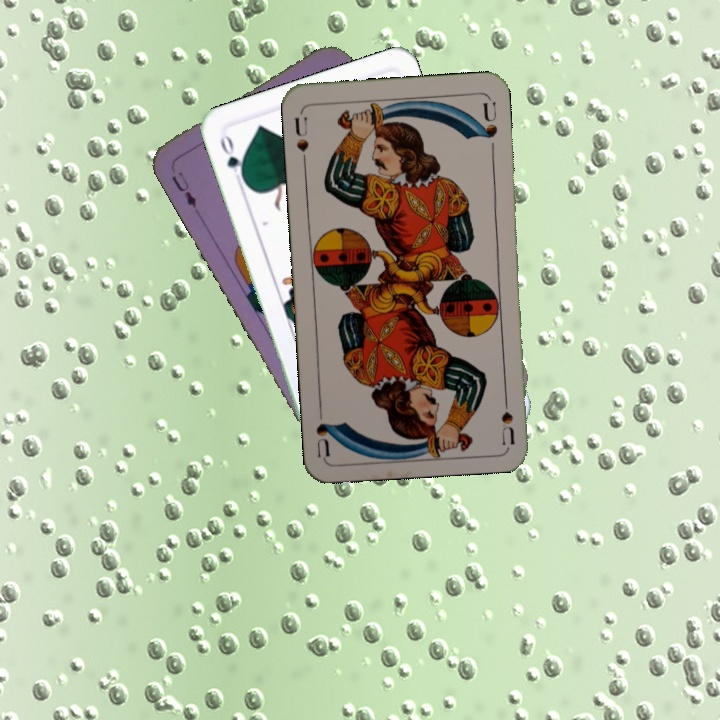EU: (168, 167, 199, 210)
GO: (216, 130, 249, 188)
SU: (497, 386, 517, 446), (290, 113, 311, 168)
